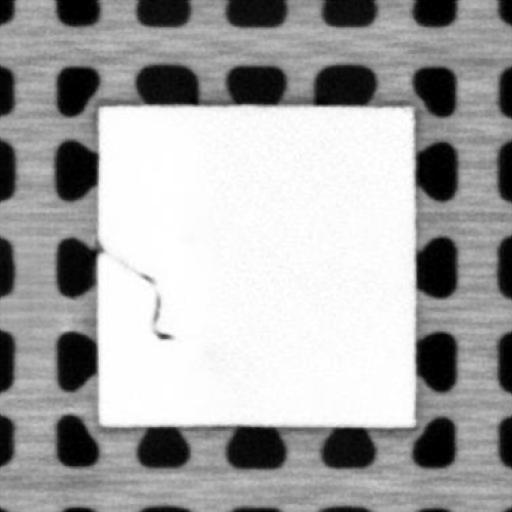DIE_INK: (98, 242, 172, 339)
